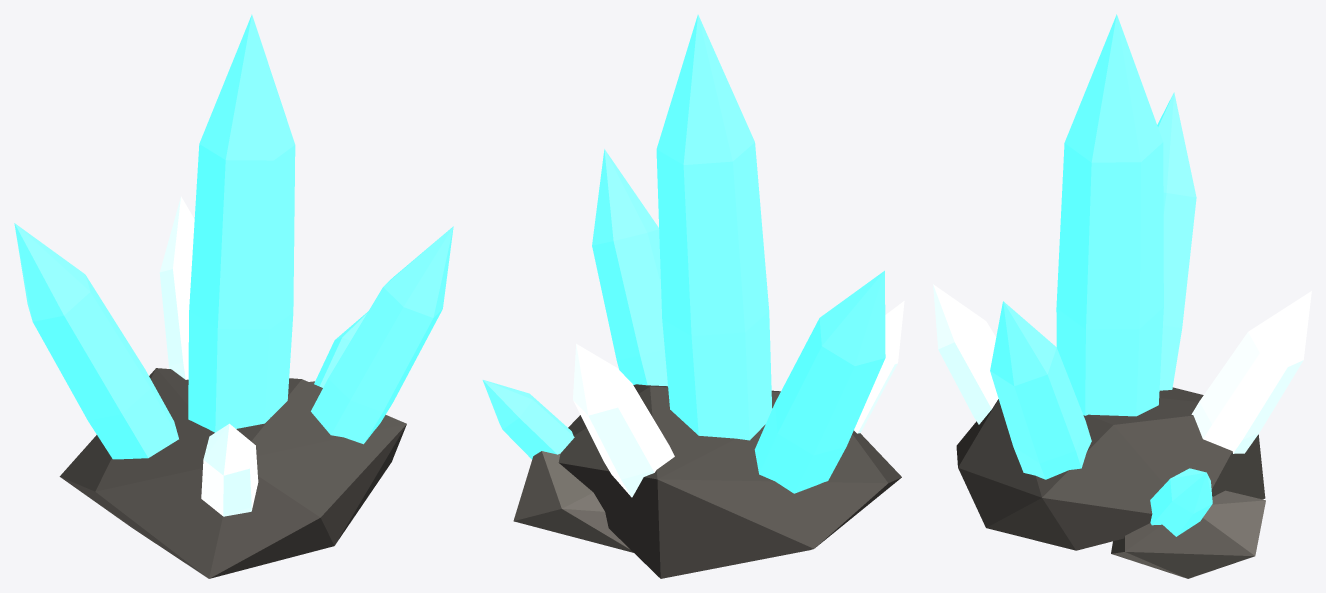
The model's file is env_crystal.glb.
3 views of the same model, side by side, from view 1: azimuth 30°, elevation 25°; view 2: azimuth 150°, elevation 25°; view 3: azimuth 270°, elevation 25° (orthographic). The views are drawn at different scales.
Visible parts, largest first — view 1: env_crystal; view 2: env_crystal; view 3: env_crystal.
Boxes of the visible parts, left/top/right/bottom form: env_crystal: left=14, top=14, right=453, bottom=578; env_crystal: left=482, top=14, right=904, bottom=578; env_crystal: left=933, top=14, right=1311, bottom=578.
Size of the model in its own units: 1.16 by 1.45 by 0.9855.
